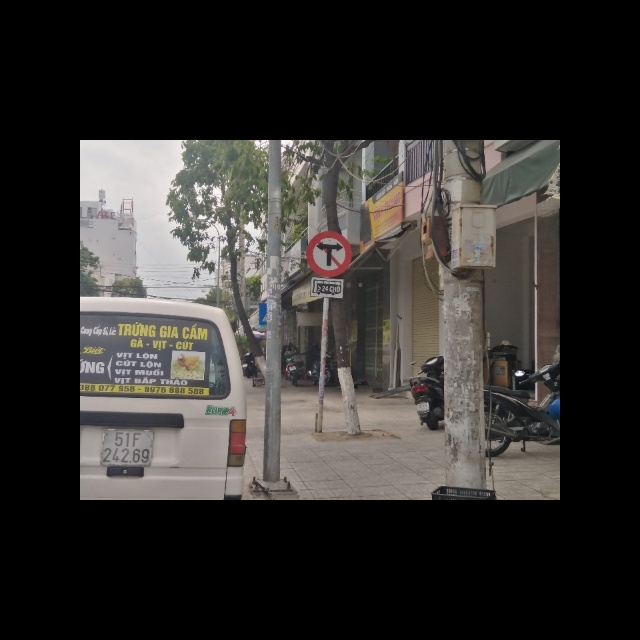Cấm rẽ trái và rẽ phải: (305, 231, 352, 278)
